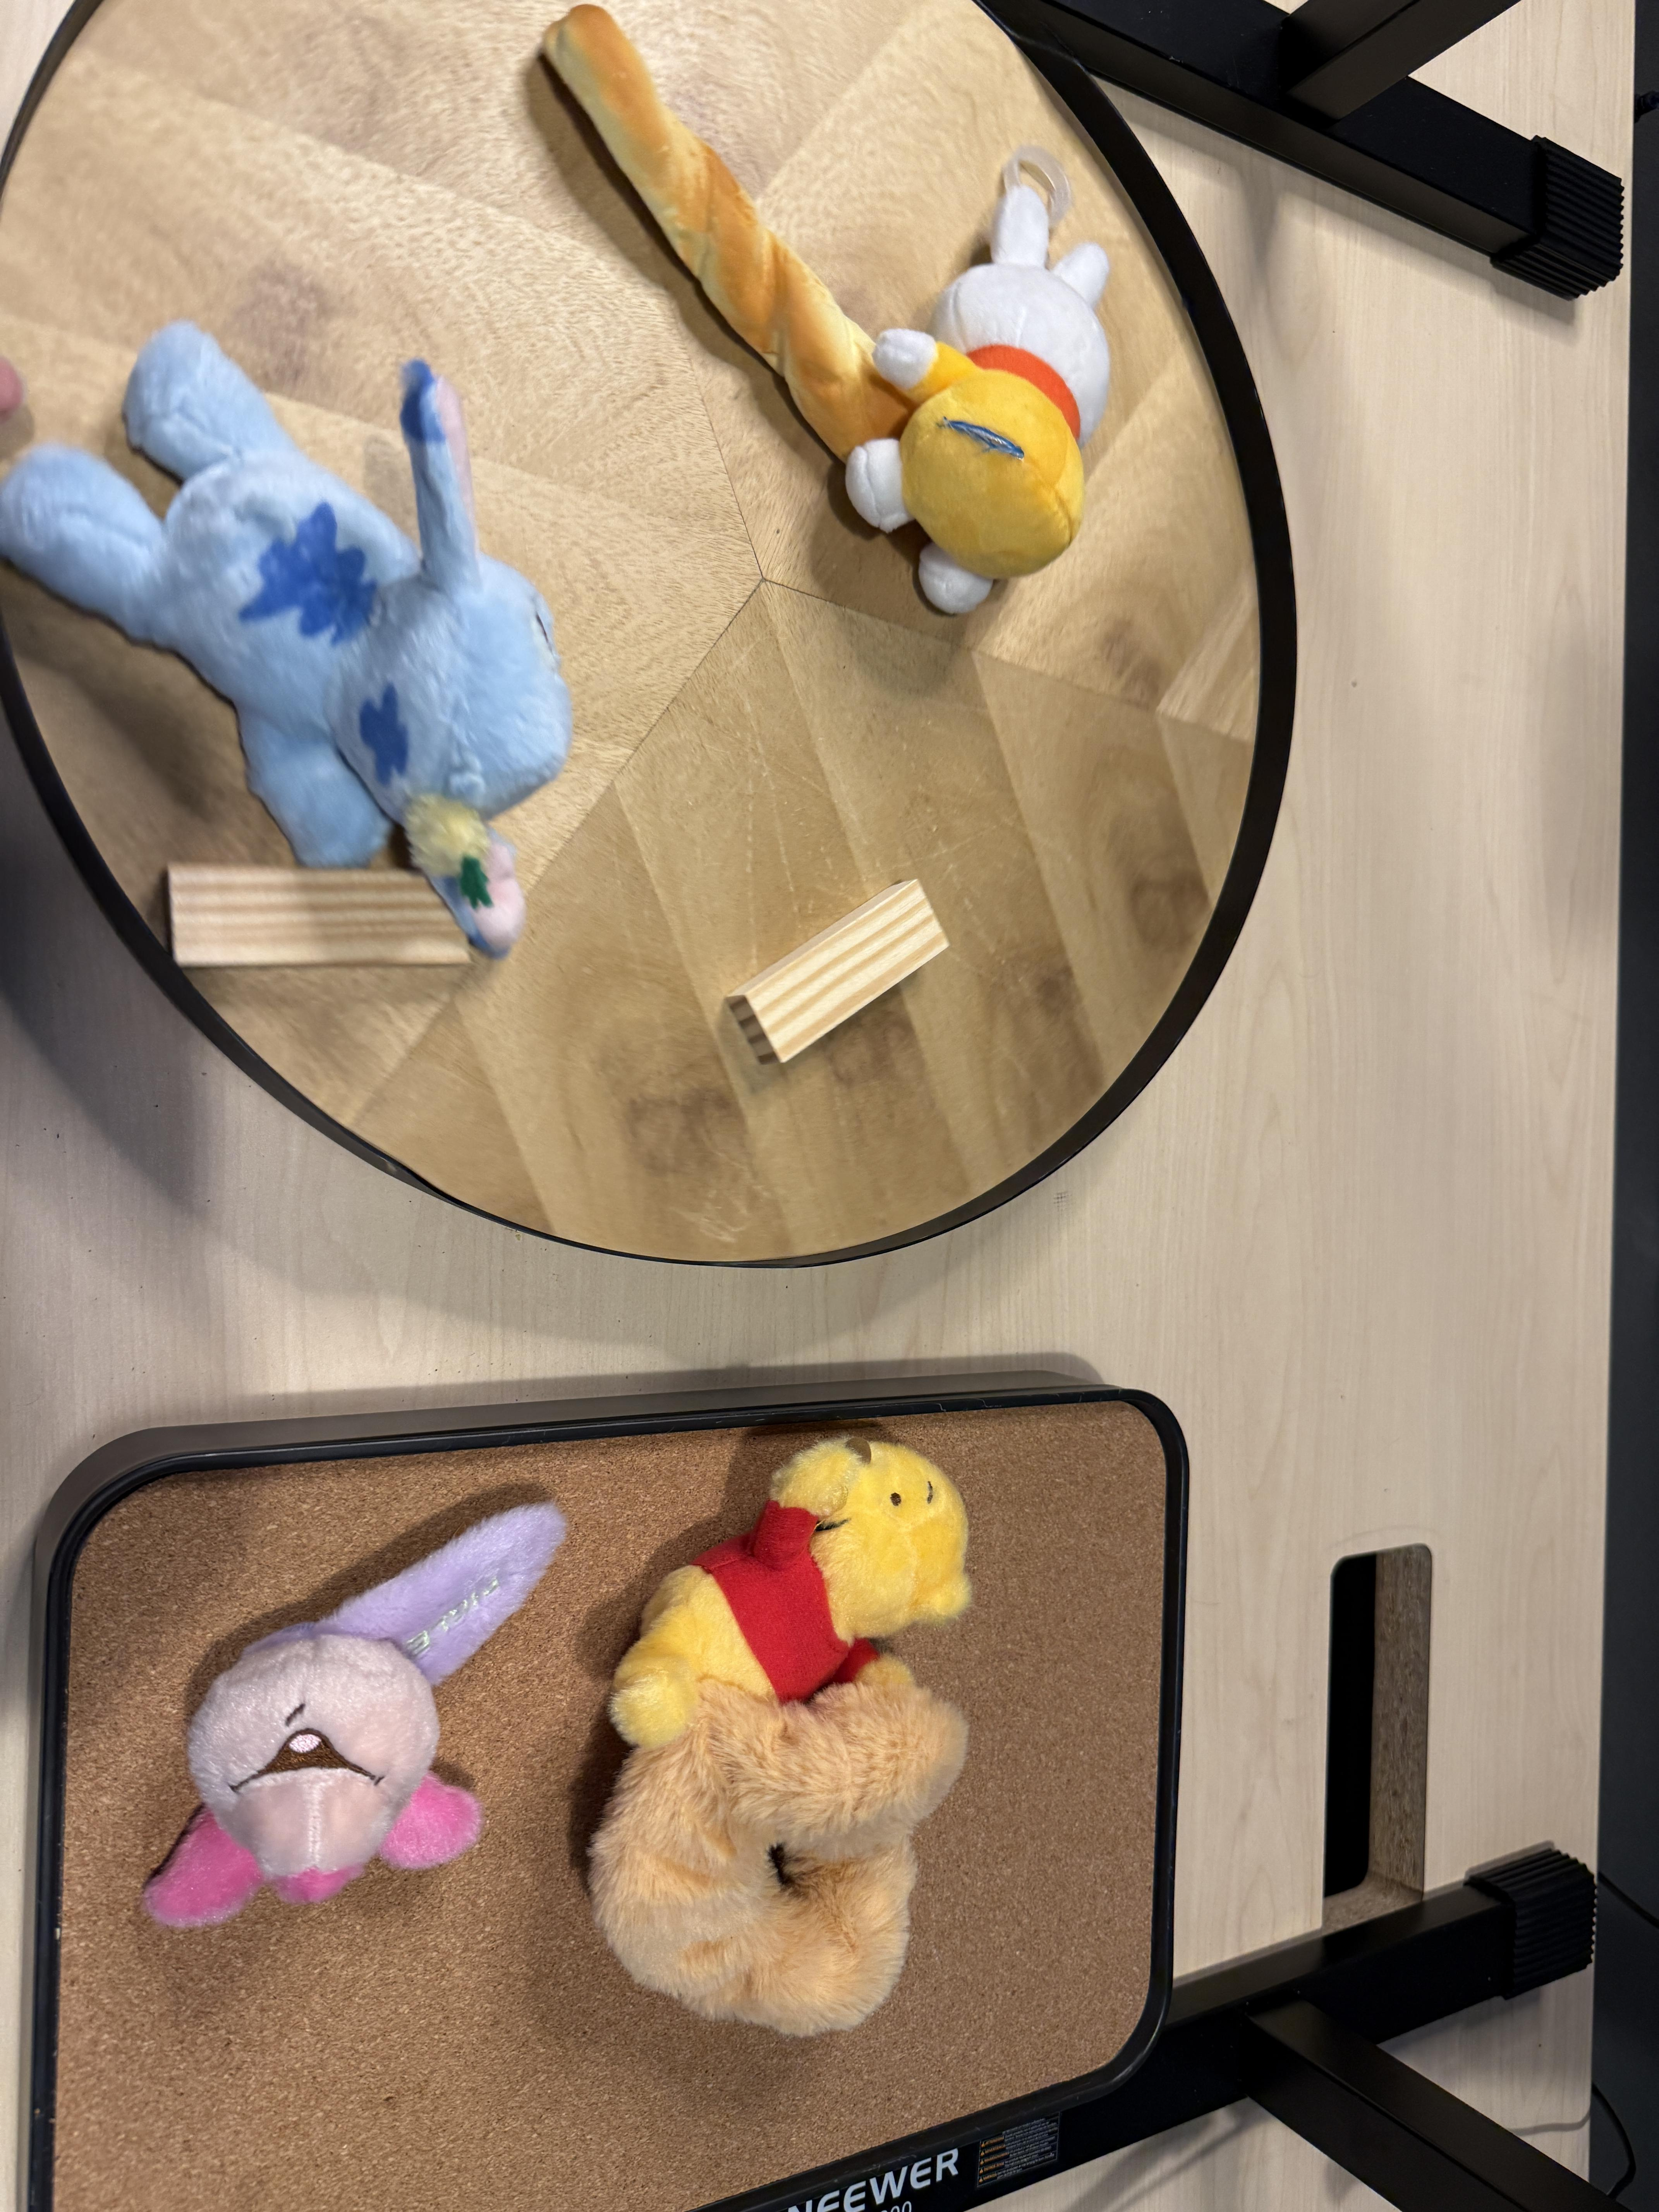block: (728, 874, 955, 1059), (159, 860, 493, 975)
bread: (535, 7, 904, 458)
doll: (0, 333, 613, 944), (599, 1440, 985, 2031), (152, 1498, 572, 1911), (849, 152, 1112, 611)
